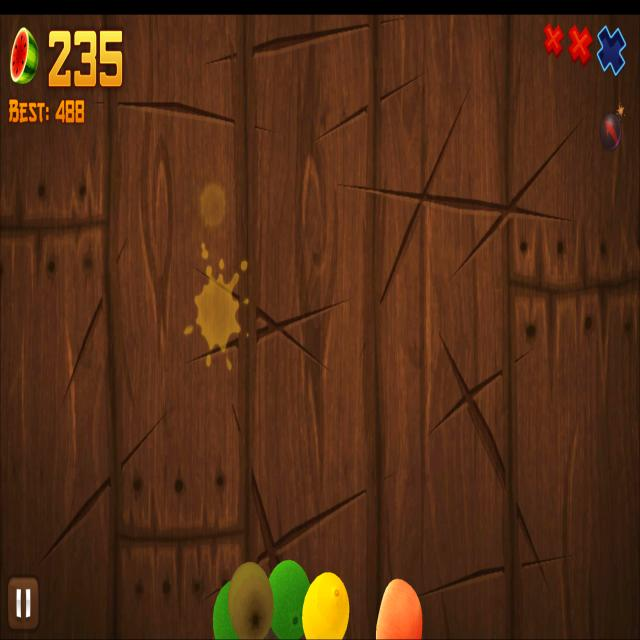fruit: (228, 560, 273, 640), (269, 559, 311, 640), (302, 570, 350, 640), (375, 578, 424, 640), (213, 581, 240, 640)
